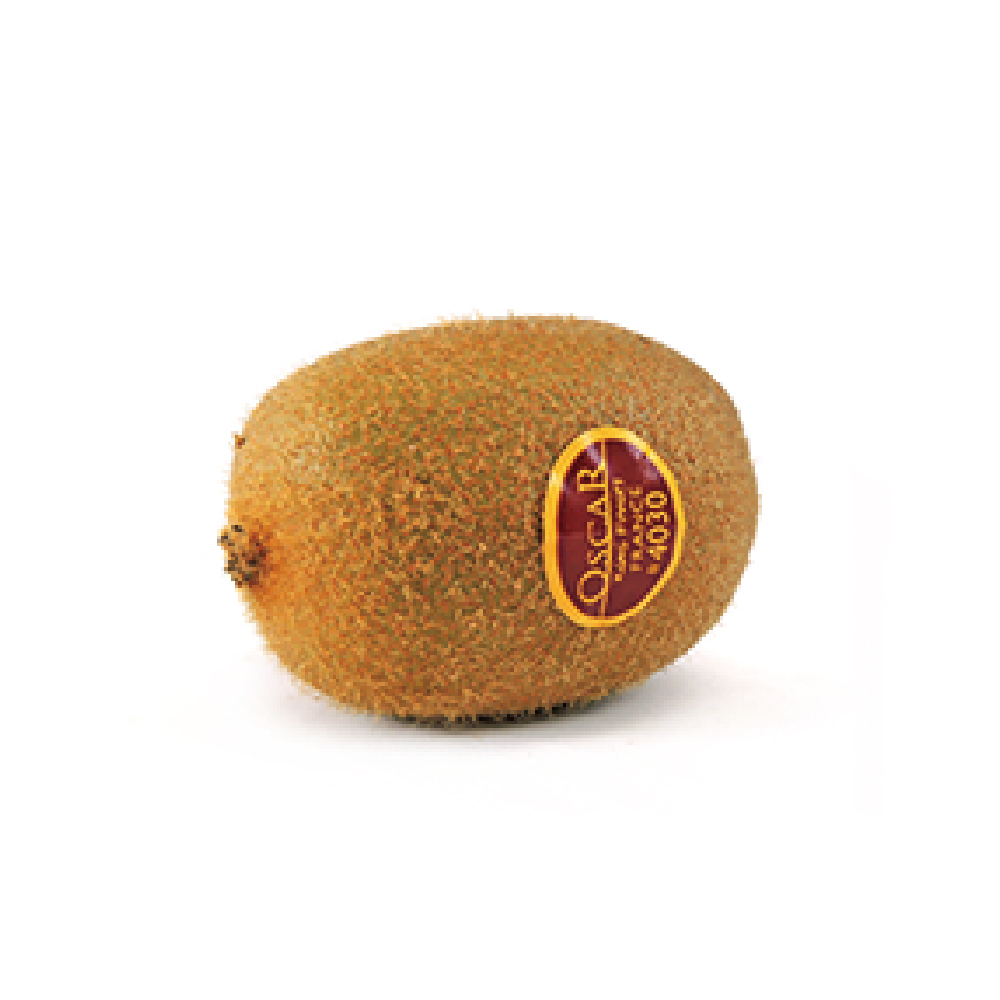kiwi: (227, 315, 758, 724)
